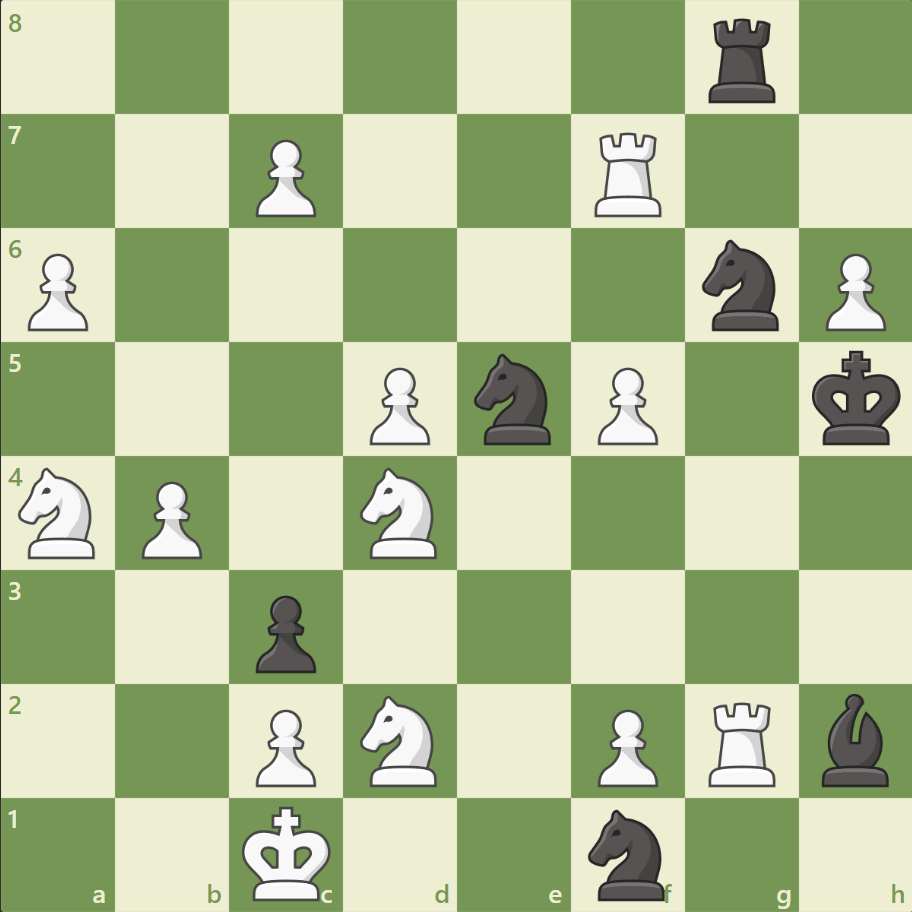K: (238, 798, 338, 906)
N: (351, 461, 449, 564), (351, 688, 449, 791), (11, 461, 108, 564)
P: (247, 132, 322, 223), (20, 246, 95, 337), (133, 473, 208, 564), (247, 700, 322, 791), (815, 246, 889, 337), (361, 359, 435, 450), (588, 359, 662, 450), (588, 700, 662, 791)
R: (587, 125, 670, 222), (700, 693, 783, 790)
b: (812, 687, 896, 790)
k: (806, 344, 906, 452)
n: (692, 234, 789, 337), (465, 348, 562, 450), (579, 802, 676, 904)
p: (247, 586, 322, 677)
r: (700, 12, 783, 109)
